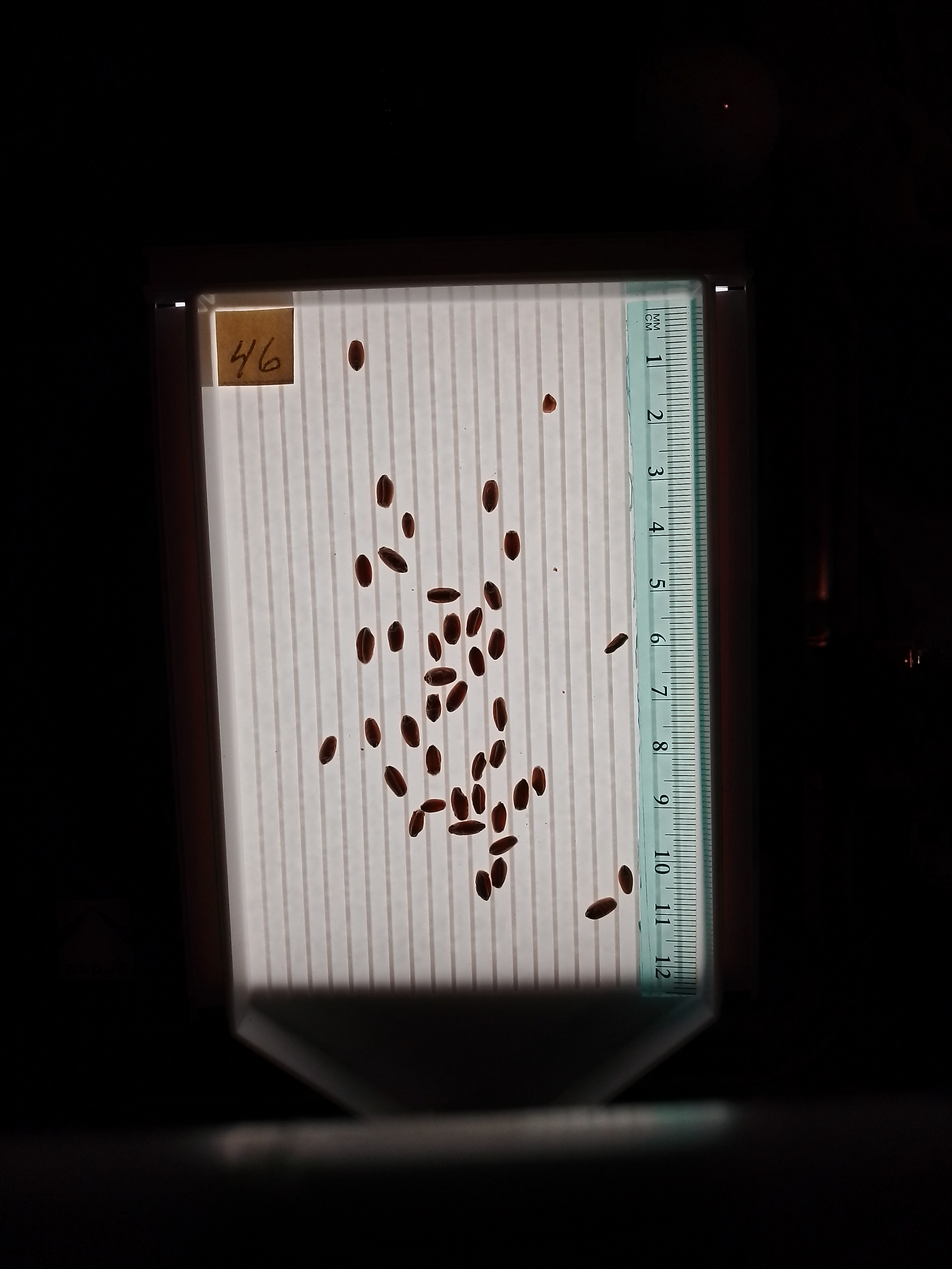seed mask: (384, 764, 408, 798), (586, 897, 617, 920), (379, 548, 407, 573), (356, 628, 375, 664), (446, 682, 467, 712), (401, 716, 420, 747), (376, 476, 394, 508), (425, 667, 455, 686), (355, 556, 373, 587), (482, 480, 499, 512), (451, 788, 468, 819), (491, 836, 517, 856), (449, 821, 483, 836), (484, 582, 502, 610), (428, 587, 459, 603), (364, 718, 381, 747), (444, 615, 461, 644), (488, 630, 505, 659), (513, 781, 529, 811), (388, 622, 404, 652), (319, 736, 336, 764), (425, 746, 442, 774), (466, 608, 483, 636), (490, 741, 506, 769), (469, 648, 485, 676), (504, 531, 520, 559), (605, 634, 627, 654), (491, 803, 506, 832), (409, 810, 425, 837), (349, 342, 364, 370), (491, 860, 506, 888), (532, 766, 546, 795), (618, 866, 633, 893), (493, 699, 506, 730), (477, 872, 491, 900), (426, 695, 441, 721), (472, 786, 486, 813), (472, 753, 486, 779), (421, 799, 445, 813), (428, 634, 441, 659), (402, 513, 415, 538), (543, 395, 556, 413)
